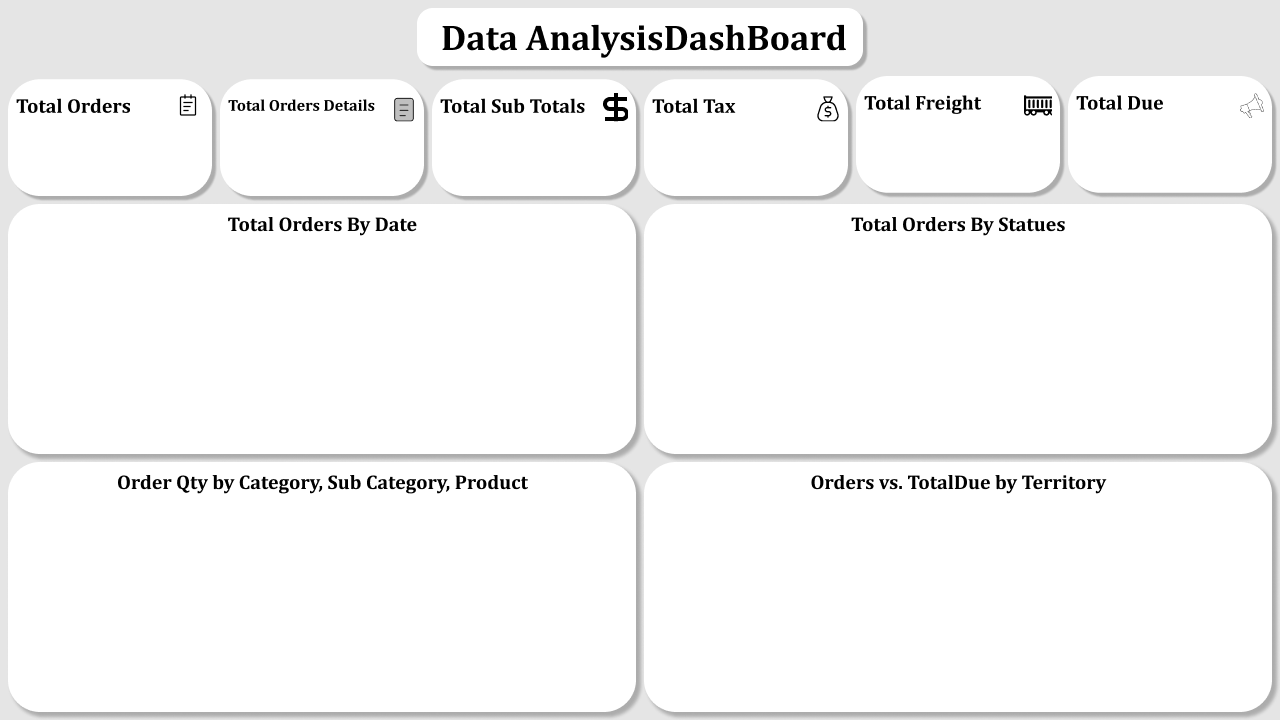

The page's visual inventory and layout, read from the dashboard file:
{"tool":"powerbi","page":{"name":"Page 2","canvas":[1280,720],"ordinal":0},"visuals":[{"type":"card","fields":{"Values":["DaxMeasures.T_orders"]},"box":[34.3,118,155.1,67.2],"z":0},{"type":"card","fields":{"Values":["DaxMeasures.T_OrderDetails"]},"box":[244.3,118,155.1,67.2],"z":1000},{"type":"card","fields":{"Values":["DaxMeasures.T_SubTotal"]},"box":[441.9,118,179.8,67.2],"z":2000},{"type":"card","fields":{"Values":["DaxMeasures.T_tax"]},"box":[658.7,118,167.4,67.2],"z":3000},{"type":"card","fields":{"Values":["DaxMeasures.T_freight"]},"box":[874.1,118,171.5,67.2],"z":4000},{"type":"card","fields":{"Values":["DaxMeasures.T_due"]},"box":[1088.2,118,155.1,67.2],"z":5000},{"type":"lineChart","fields":{"Category":["SalesFact.OrderDate"],"Y":["CountNonNull(SalesFact.OrderID)"]},"box":[9.6,233.3,629.8,208.6],"z":6000},{"type":"clusteredBarChart","fields":{"Category":["StatusDim.Status"],"Y":["CountNonNull(SalesFact.OrderID)"]},"box":[640,233.3,625.6,208.9],"z":7000},{"type":"lineStackedColumnComboChart","fields":{"Category":["TerritoryDim.Territory"],"Y":["Sum(SalesFact.TotalDue)"],"Y2":["Count(SalesFact.OrderID)"]},"box":[640,490,625.6,208.9],"z":9000},{"type":"treemap","fields":{"Group":["ProductDim.ProductCategory","ProductDim.ProductSubCategory"],"Details":["ProductDim.Product"],"Values":["Sum(SalesFact.OrderQty)"]},"box":[18.6,490.3,610.6,208.8],"z":9001}]}

Visuals, with their boxes in screenshot pixels (x1, y1, x2, y2), scaled from the page's 1280x720 canvas onto the 1280x720 screenshot:
card - DaxMeasures.T_orders: [34, 118, 189, 185]
card - DaxMeasures.T_OrderDetails: [244, 118, 399, 185]
card - DaxMeasures.T_SubTotal: [442, 118, 622, 185]
card - DaxMeasures.T_tax: [659, 118, 826, 185]
card - DaxMeasures.T_freight: [874, 118, 1046, 185]
card - DaxMeasures.T_due: [1088, 118, 1243, 185]
lineChart - SalesFact.OrderDate x CountNonNull(SalesFact.OrderID): [10, 233, 639, 442]
clusteredBarChart - StatusDim.Status x CountNonNull(SalesFact.OrderID): [640, 233, 1266, 442]
lineStackedColumnComboChart - TerritoryDim.Territory x Sum(SalesFact.TotalDue): [640, 490, 1266, 699]
treemap - ProductDim.ProductCategory x ProductDim.ProductSubCategory: [19, 490, 629, 699]
